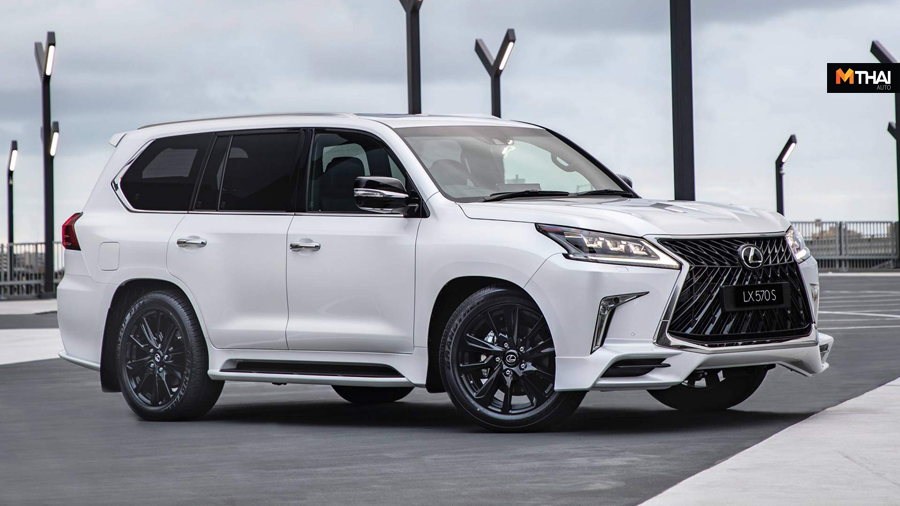pickup: (57, 108, 834, 430)
